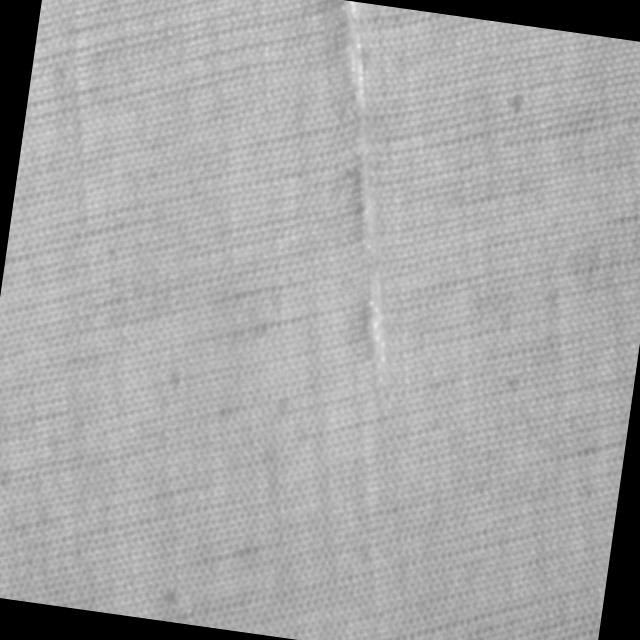thread error: (294, 1, 446, 404)
